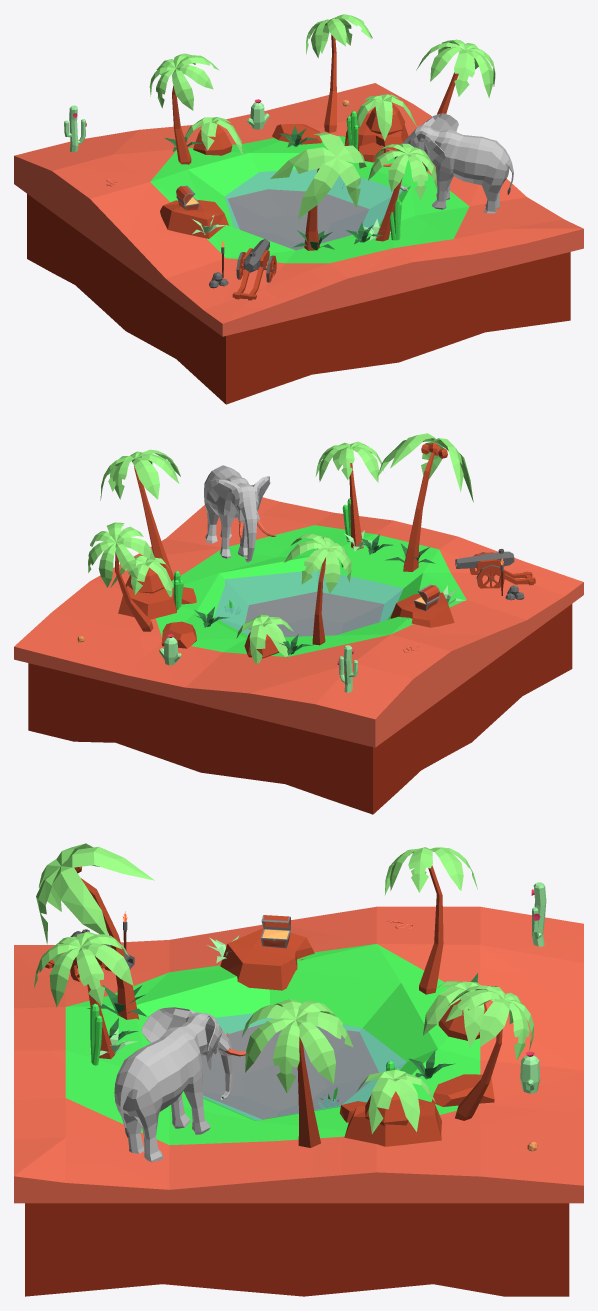
File: MiniMundo-Lake.glb
3 views of the same model, one above another, from view 1: azimuth 30°, elevation 25°; view 2: azimuth 150°, elevation 25°; view 3: azimuth 270°, elevation 25° (orthographic). The views are drawn at different scales.
Visible parts, largest first — view 1: world-oasis, elephant, tree-palm01 (1), palm-angle.002, tree_palm_03 (4), tree_palm_03 (3), palm-angle (1).001, stone-flat.003, tree-palm02 (1), tree-palm02 (2), stone04 (1), stone_01 (3) (+2 smaller); view 2: world-oasis, elephant, tree-palm01 (1), palm-angle (1).001, tree_palm_03 (4), palm-angle.002, tree_palm_03 (3), tree-palm02 (2), stone04 (1), tree-palm02 (1), stone-flat.003, stone_01 (3) (+4 smaller); view 3: world-oasis, elephant, tree_palm_03 (4), tree-palm01 (1), tree_palm_03 (3), palm-angle (1).001, stone-flat.003, palm-angle.002, tree-palm02 (1), stone04 (1), tree-palm02 (2), stone_01 (3) (+3 smaller).
Boxes of the visible parts, left/top/right/bottom form: world-oasis: left=14, top=83, right=583, bottom=404; elephant: left=381, top=113, right=513, bottom=213; tree-palm01 (1): left=270, top=132, right=366, bottom=250; palm-angle.002: left=149, top=53, right=219, bottom=164; tree_palm_03 (4): left=416, top=39, right=495, bottom=165; tree_palm_03 (3): left=368, top=143, right=436, bottom=241; palm-angle (1).001: left=306, top=14, right=372, bottom=132; stone-flat.003: left=160, top=200, right=228, bottom=238; tree-palm02 (1): left=357, top=94, right=416, bottom=140; tree-palm02 (2): left=185, top=117, right=242, bottom=155; stone04 (1): left=344, top=113, right=408, bottom=162; stone_01 (3): left=272, top=123, right=322, bottom=144; world-oasis: left=14, top=497, right=583, bottom=814; elephant: left=204, top=465, right=275, bottom=562; tree-palm01 (1): left=377, top=433, right=473, bottom=571; palm-angle (1).001: left=88, top=522, right=155, bottom=631; tree_palm_03 (4): left=100, top=449, right=180, bottom=580; palm-angle.002: left=284, top=534, right=351, bottom=645; tree_palm_03 (3): left=315, top=441, right=383, bottom=549; tree-palm02 (2): left=236, top=614, right=293, bottom=663; stone04 (1): left=118, top=585, right=196, bottom=619; tree-palm02 (1): left=110, top=556, right=172, bottom=596; stone-flat.003: left=390, top=592, right=454, bottom=627; stone_01 (3): left=161, top=621, right=196, bottom=648; world-oasis: left=14, top=906, right=583, bottom=1296; elephant: left=114, top=1007, right=245, bottom=1162; tree_palm_03 (4): left=242, top=999, right=353, bottom=1147; tree-palm01 (1): left=36, top=843, right=154, bottom=1019; tree_palm_03 (3): left=34, top=931, right=133, bottom=1059; palm-angle (1).001: left=445, top=985, right=533, bottom=1120; stone-flat.003: left=220, top=928, right=314, bottom=990; palm-angle.002: left=384, top=847, right=477, bottom=994; tree-palm02 (1): left=356, top=1069, right=435, bottom=1133; stone04 (1): left=340, top=1099, right=441, bottom=1146; tree-palm02 (2): left=423, top=981, right=495, bottom=1047; stone_01 (3): left=431, top=1074, right=494, bottom=1106.
Bounding box in the file's own units: 20.61 × 11.67 × 20.
